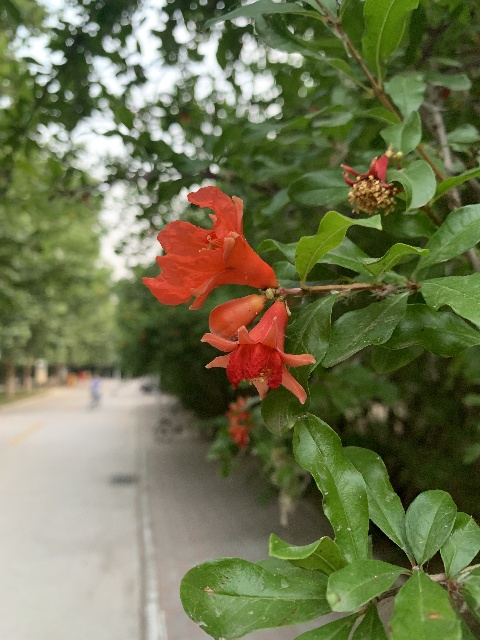bud: (206, 294, 267, 341)
flower: (141, 185, 276, 311), (203, 300, 315, 404), (227, 422, 250, 449), (226, 395, 250, 419)
